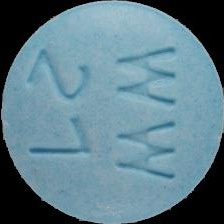52959-221: (0, 0, 224, 224)
